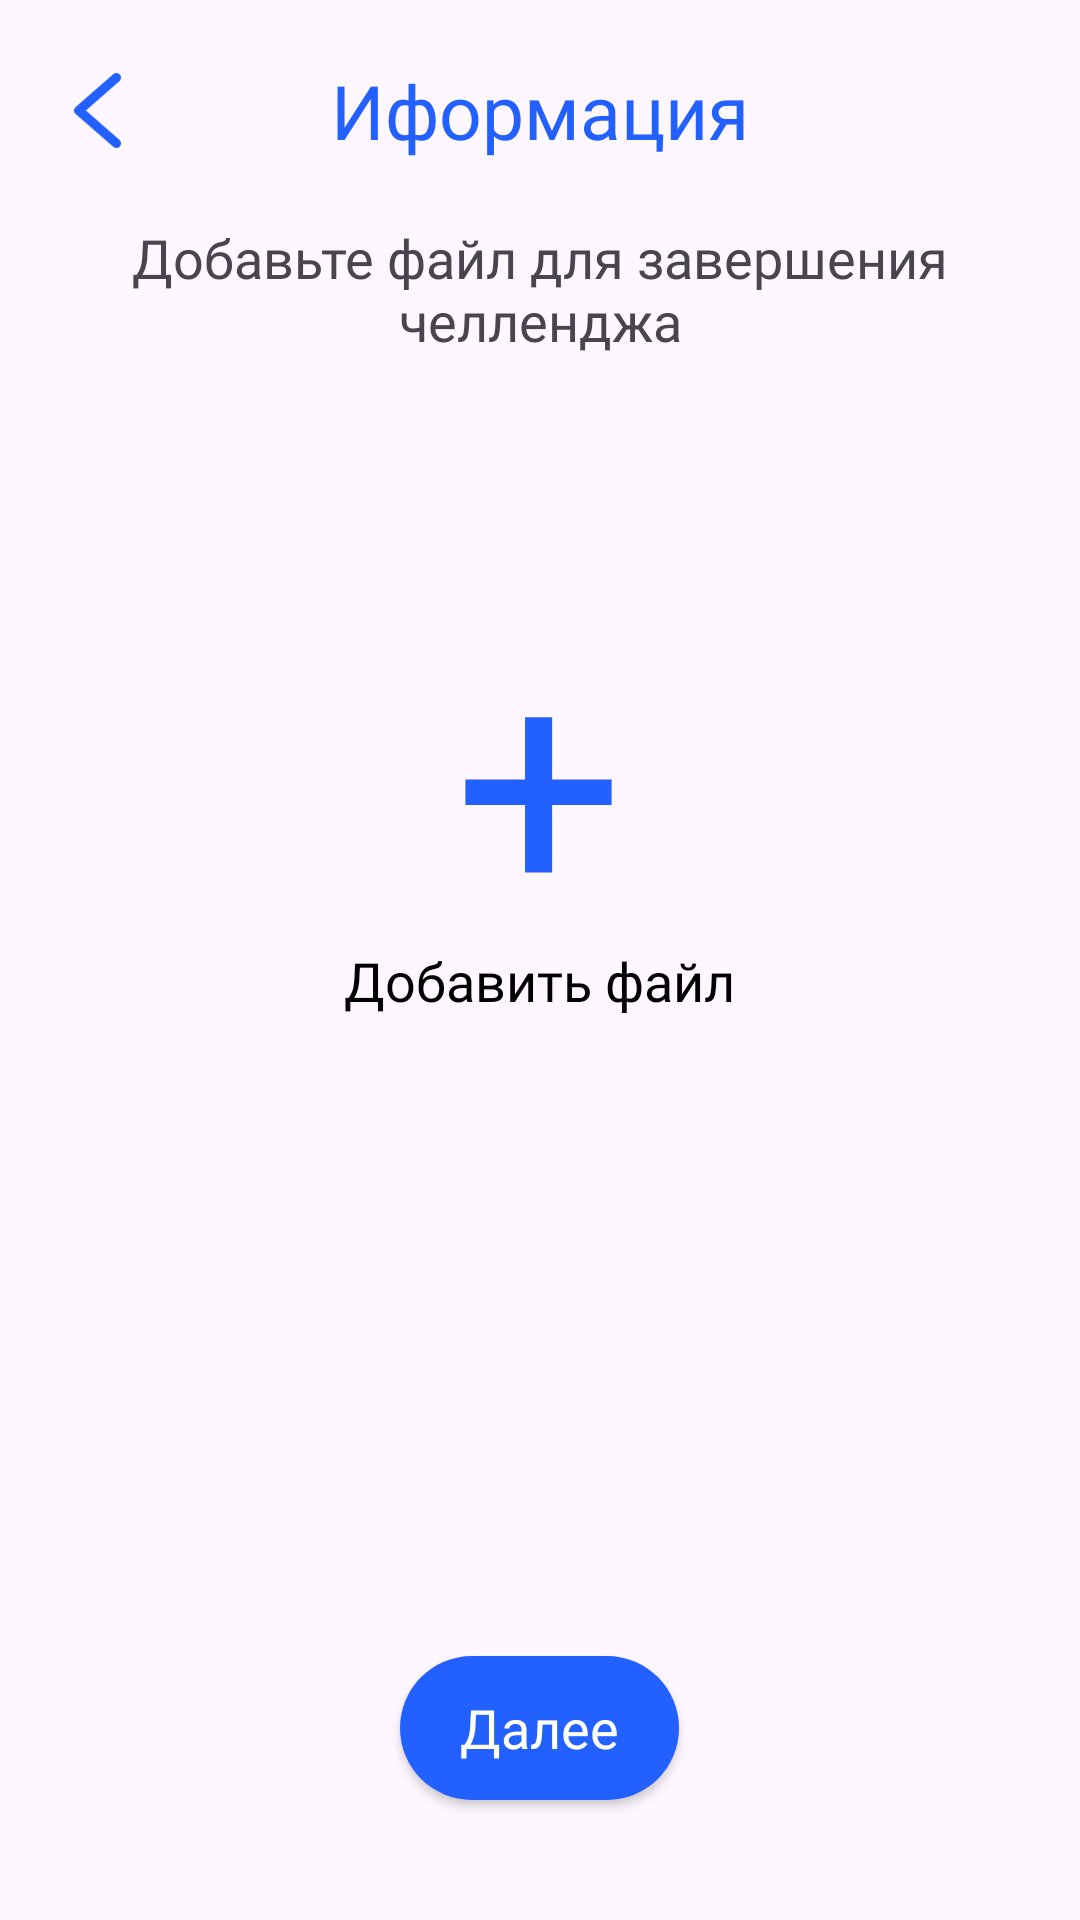

Screen size 1080px x 1920px. Icon name, then its box in pixels as (x1, y1, x2, y2):
arrow back: (74, 73, 121, 148)
